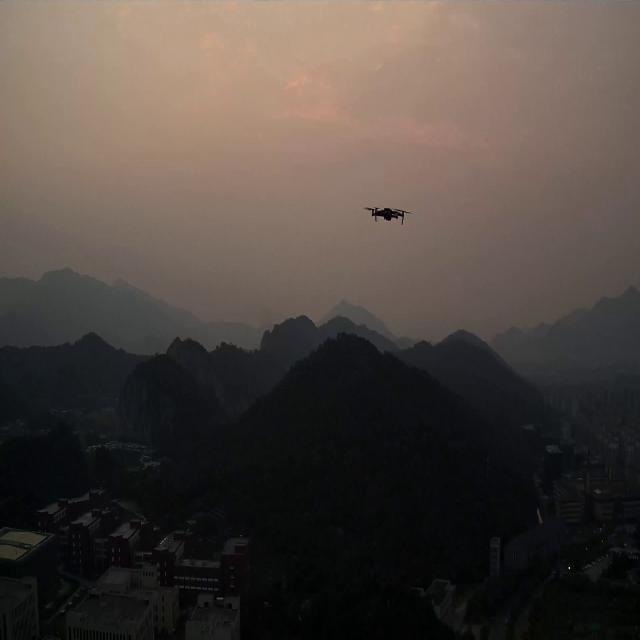UAV: (364, 198, 412, 228)
